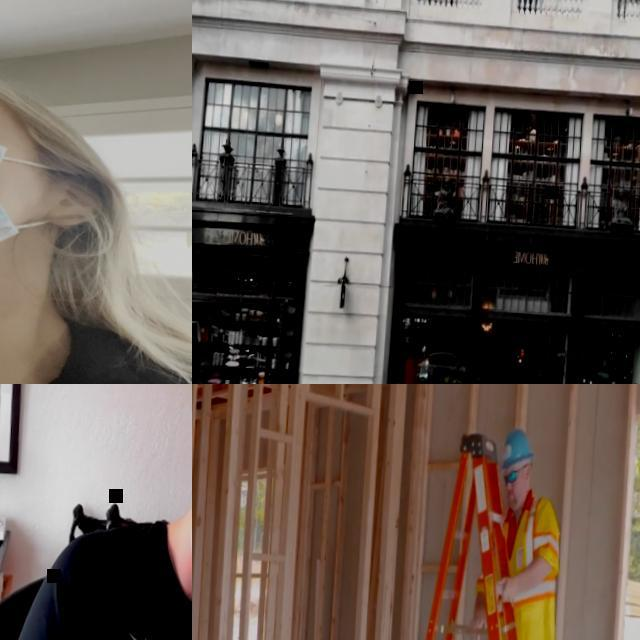helmet: (501, 428, 535, 470)
vest: (476, 488, 564, 614)
